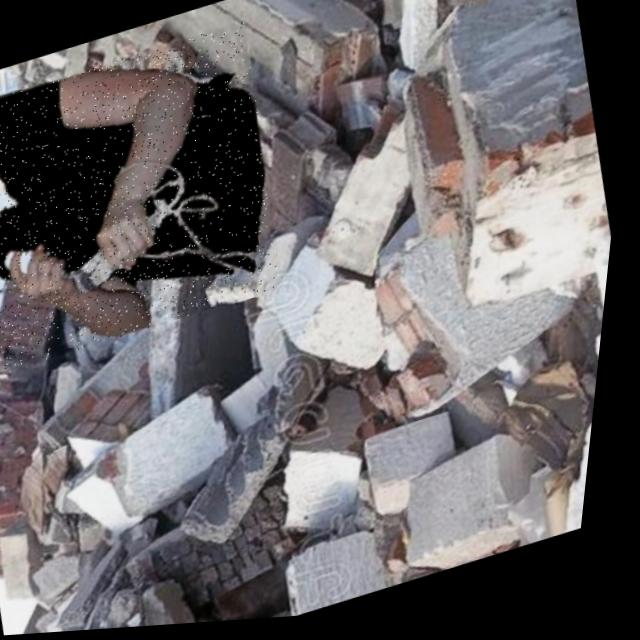Person in Rubble: (0, 20, 311, 380)
